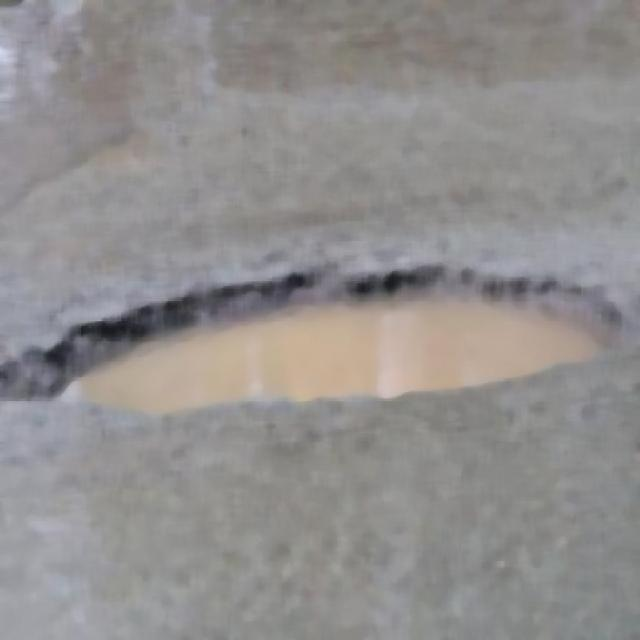Pothole: (0, 247, 640, 419)
